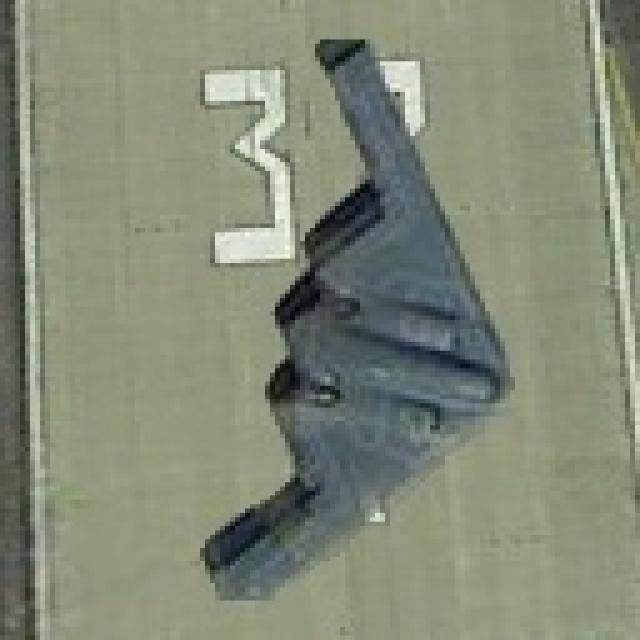B-2_TopDown: (185, 31, 520, 600)
